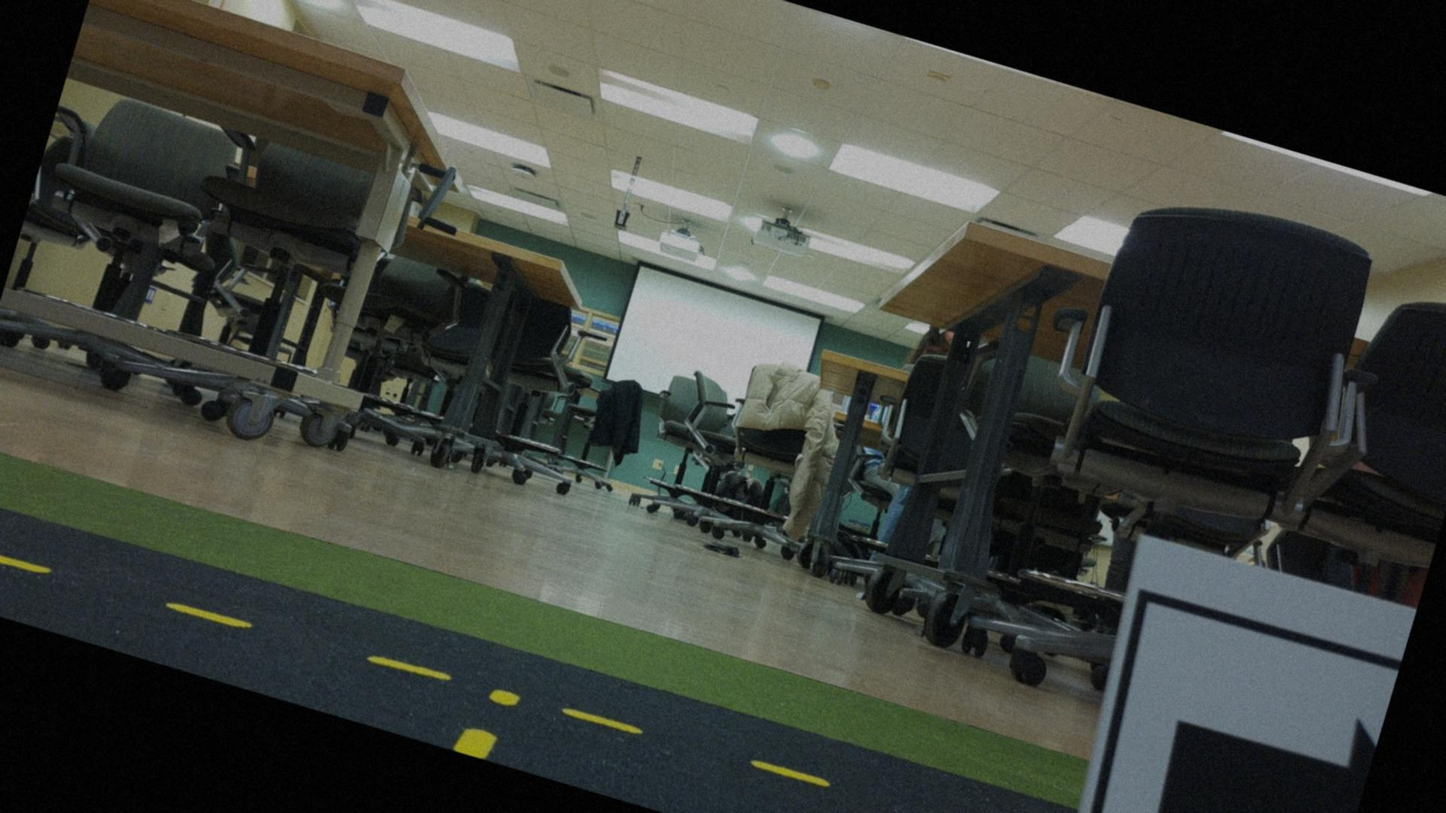yellowline: (0, 519, 1014, 812)
